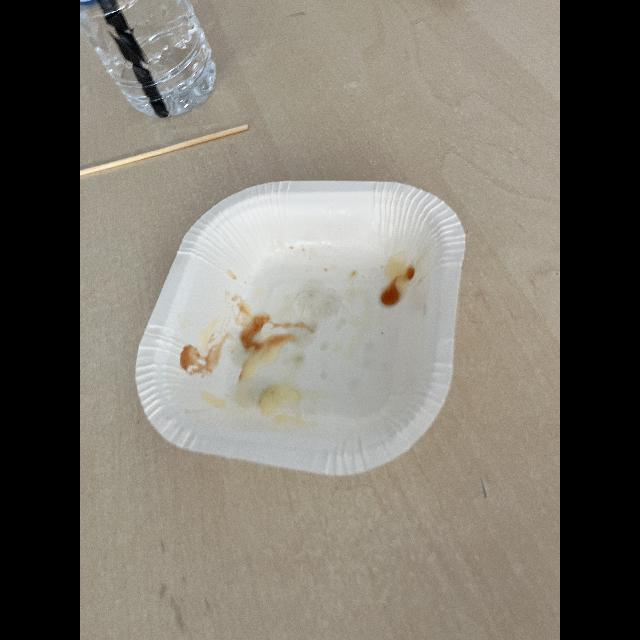cardboard_bowl: (138, 177, 476, 481)
stick: (80, 119, 256, 185)
